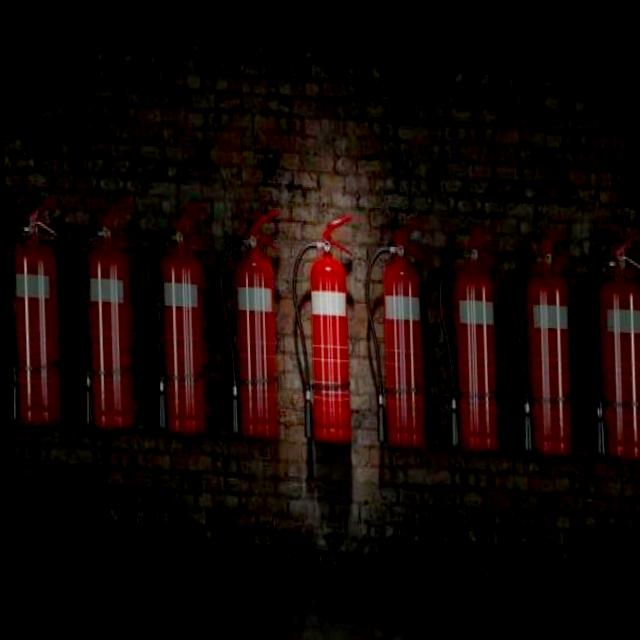FireExtinguisher: (211, 195, 287, 441), (64, 192, 140, 436), (432, 205, 508, 448), (357, 202, 431, 446), (138, 196, 211, 440), (505, 229, 582, 455), (287, 203, 357, 440), (577, 214, 640, 457), (4, 186, 64, 430)
